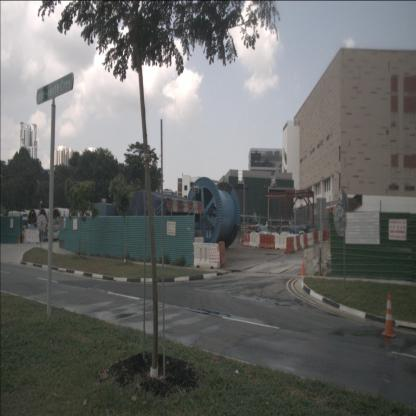barrier: (192, 242, 221, 270), (24, 228, 40, 245), (217, 241, 227, 267), (260, 233, 275, 250), (275, 235, 291, 250), (284, 236, 295, 254), (250, 233, 260, 248), (304, 232, 314, 247), (296, 236, 303, 252), (300, 234, 306, 250), (292, 236, 298, 252), (303, 233, 309, 248), (244, 232, 249, 247), (323, 230, 329, 240), (314, 230, 318, 244)
cone: (381, 293, 396, 338), (300, 257, 306, 277), (17, 233, 21, 244), (21, 234, 25, 244), (240, 237, 243, 245)
